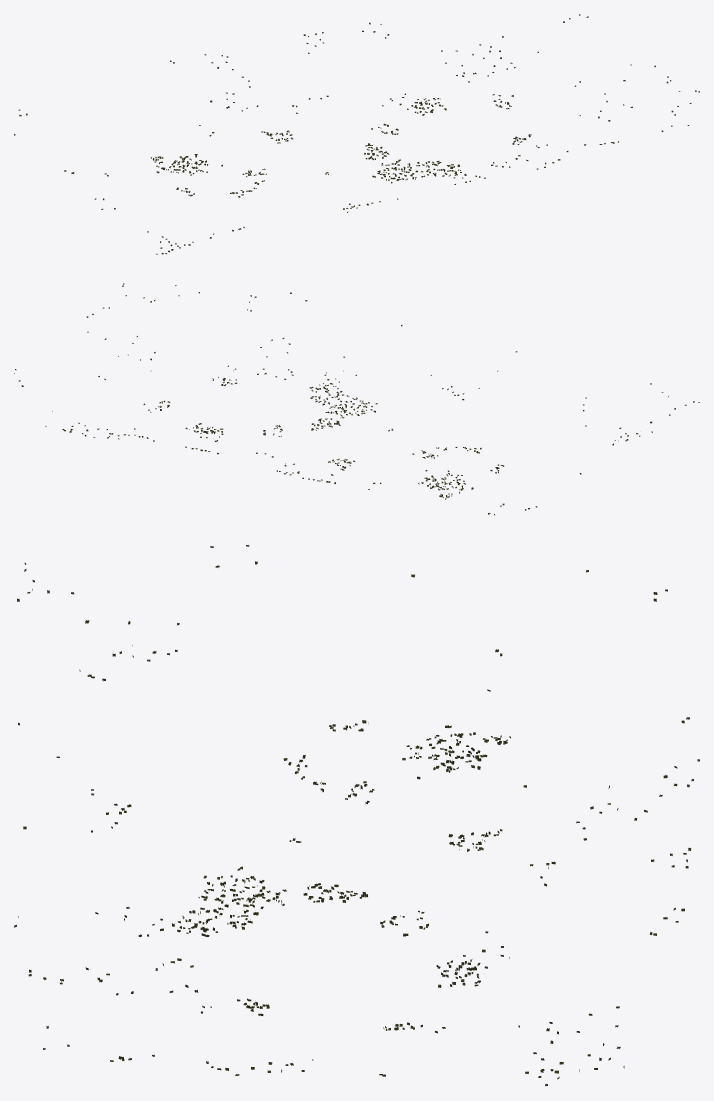
The model's file is SM_Art_Cover_L_CrystalPassage_GrassDry.gltf.
3 views of the same model, one above another, from view 1: azimuth 30°, elevation 25°; view 2: azimuth 150°, elevation 25°; view 3: azimuth 270°, elevation 25° (orthographic). The views are drawn at different scales.
Visible parts, largest first — view 1: SM_Art_Cover_L_CrystalPassage_GrassDry; view 2: SM_Art_Cover_L_CrystalPassage_GrassDry; view 3: SM_Art_Cover_L_CrystalPassage_GrassDry.
Part boxes in pixels (x1=…): SM_Art_Cover_L_CrystalPassage_GrassDry: x1=14, y1=14, x2=699, y2=254; SM_Art_Cover_L_CrystalPassage_GrassDry: x1=14, y1=283, x2=699, y2=515; SM_Art_Cover_L_CrystalPassage_GrassDry: x1=14, y1=545, x2=699, y2=1085.
Bounding box in the file's own units: 272 × 23.45 × 156.
1 material, 1 textured.
